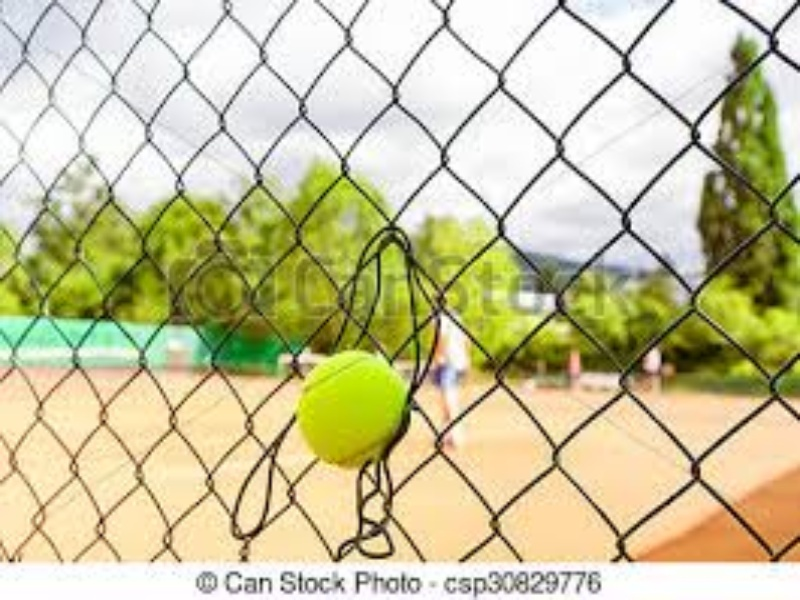tennis ball: (289, 343, 437, 502)
